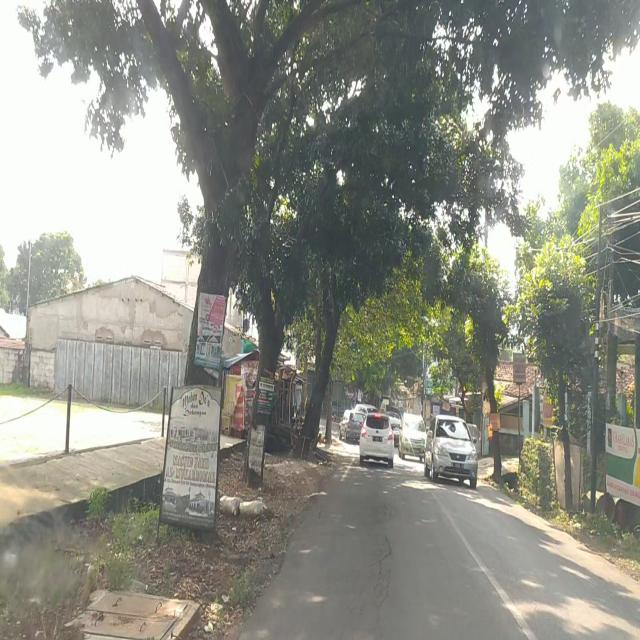Drain Hole: (369, 530, 393, 612), (376, 498, 396, 527)
